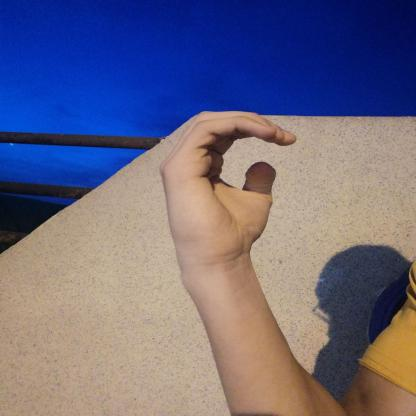JEEM: (144, 108, 306, 272)
